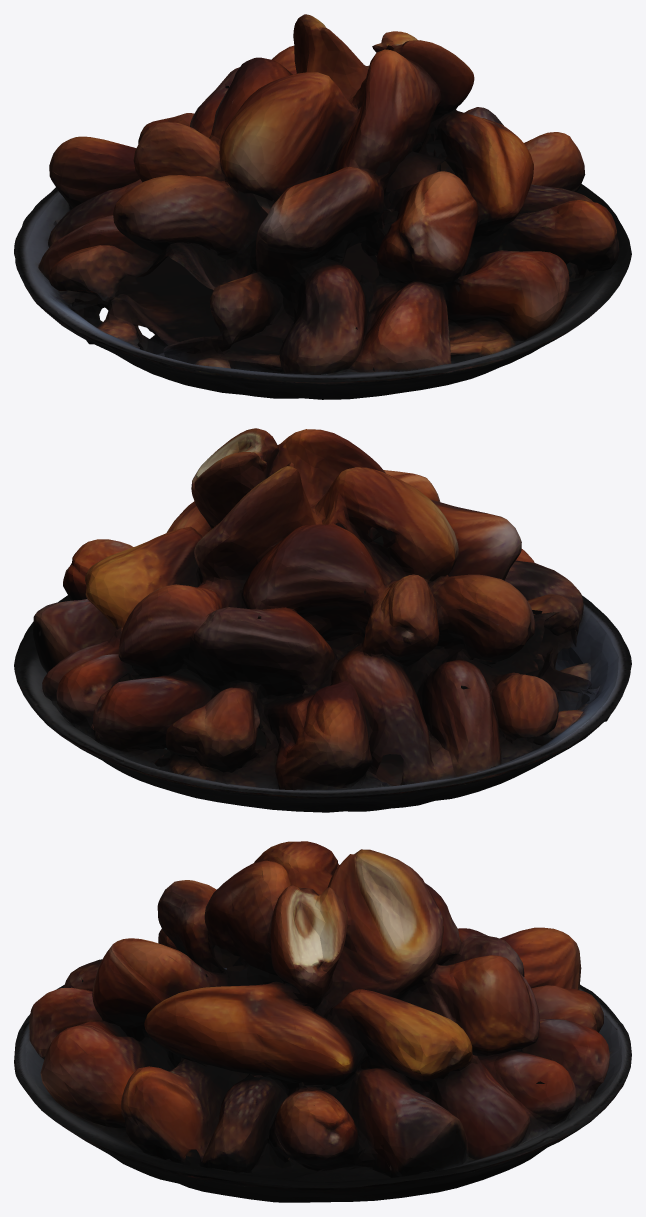
3 renders of one model, top to bottom at view 1: azimuth 30°, elevation 25°; view 2: azimuth 150°, elevation 25°; view 3: azimuth 270°, elevation 25°, orthographic.
Visible parts, largest first — view 1: world; view 2: world; view 3: world.
Part boxes in pixels (x1=…): world: x1=14, y1=14, x2=631, y2=399; world: x1=14, y1=428, x2=631, y2=812; world: x1=14, y1=841, x2=631, y2=1202.
Size of the model in its own units: 1 by 0.4522 by 0.9999.
Materials: 1 (1 with a texture image).
